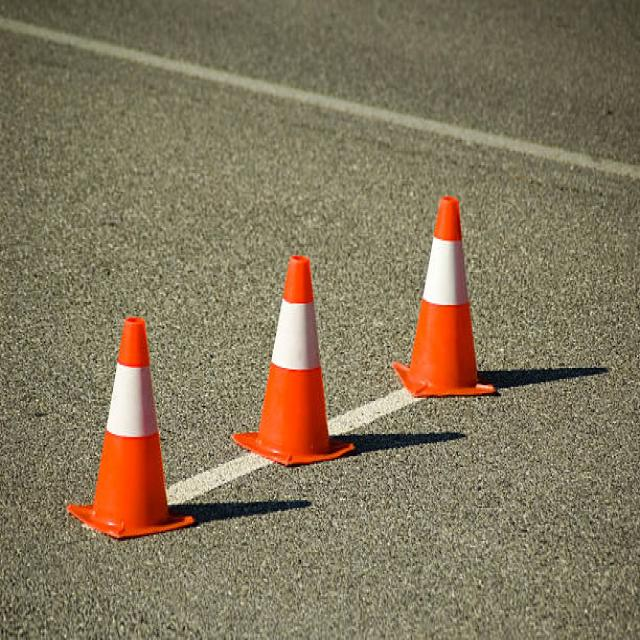Traffic Cone: (56, 297, 207, 556), (225, 229, 366, 472), (387, 178, 503, 412)
